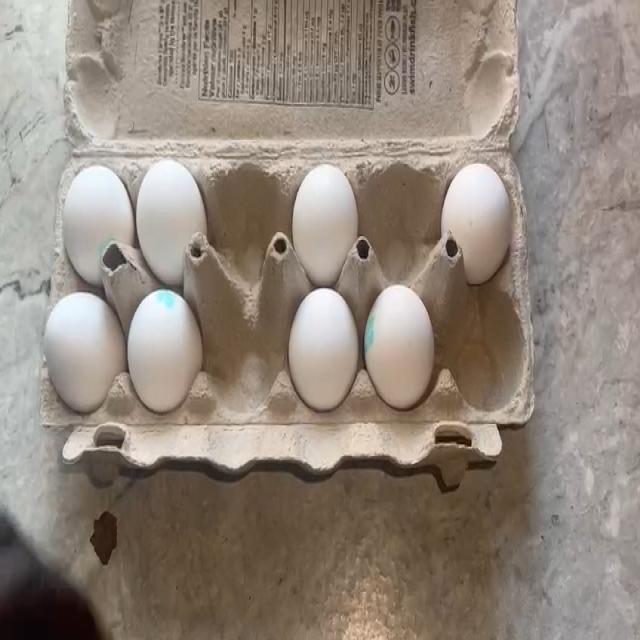Egg: (54, 159, 131, 258), (44, 290, 111, 400), (436, 158, 506, 260), (292, 154, 351, 275), (368, 296, 429, 396), (142, 156, 200, 258), (130, 295, 188, 393), (292, 294, 348, 392)
